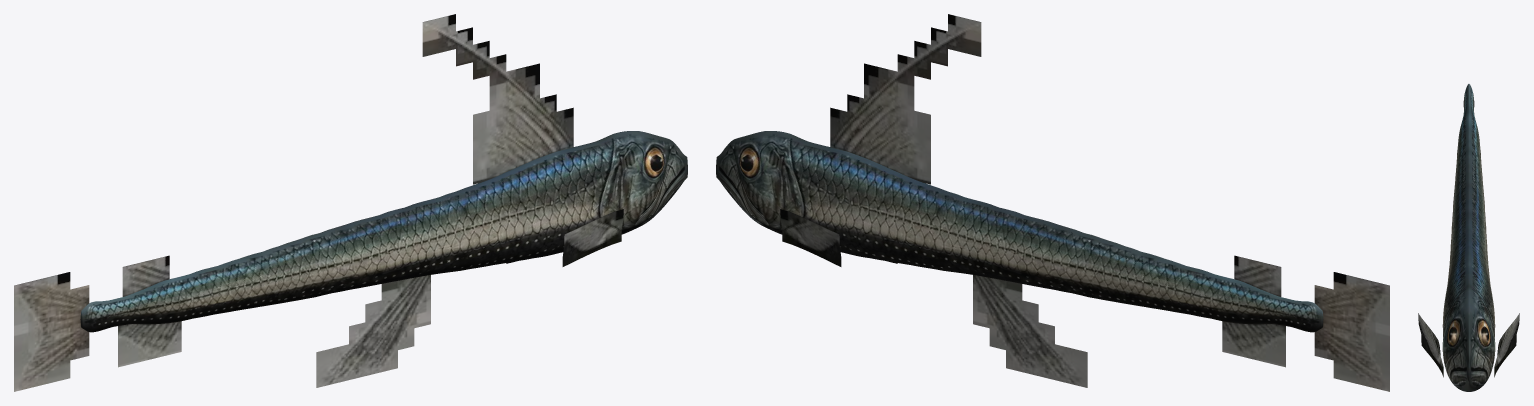
The model's file is real-chauliodus_sloani.glb.
3 views of the same model, side by side, from view 1: azimuth 30°, elevation 25°; view 2: azimuth 150°, elevation 25°; view 3: azimuth 270°, elevation 25° (orthographic). The views are drawn at different scales.
Visible parts, largest first — view 1: chauliodus_sloani; view 2: chauliodus_sloani; view 3: chauliodus_sloani.
Boxes of the visible parts, x1,y1,x2,y2 form: chauliodus_sloani: (14, 14, 687, 391); chauliodus_sloani: (716, 14, 1389, 391); chauliodus_sloani: (1418, 84, 1519, 391).
Size of the model in its own units: 0.351 by 0.1693 by 0.0481.
1 material, 1 textured.
